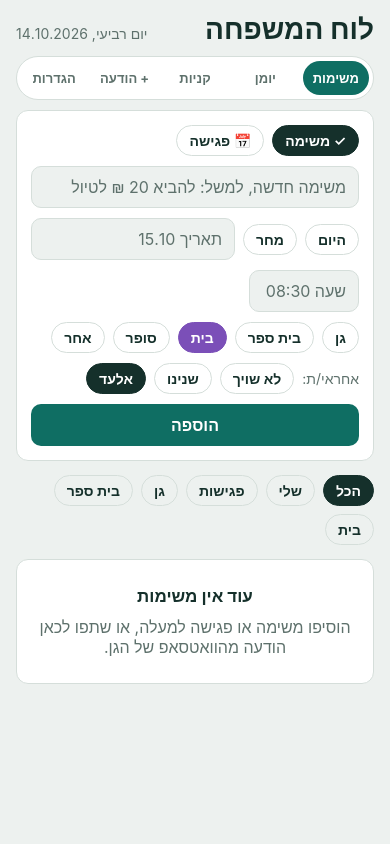
Test: tasks tab: adding › add a task for tomorrow, kindergarten, assigned to both
Expected: the text "+ הודעה" is shown, [100,70,149,86]
Type "להביא 20 ₪ לטיול" into the field with placeholder "משימה חדשה, למשל: להביא 20 ₪ לטיול" at (195, 187), box [31,166,359,208]
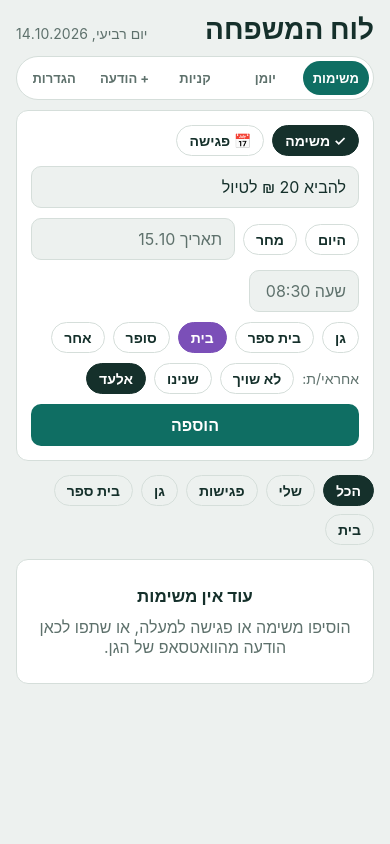
Click the text "מחר" at (270, 239), box [256,230,284,248]
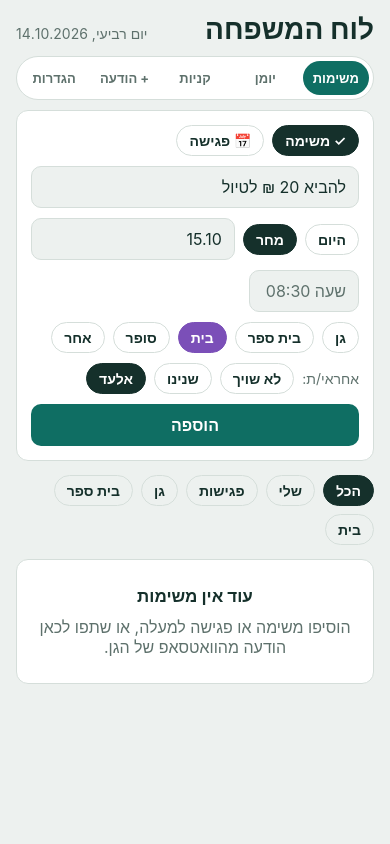
Click the text "גן" in the row of "סופר" at (341, 338), box [335,329,346,346]
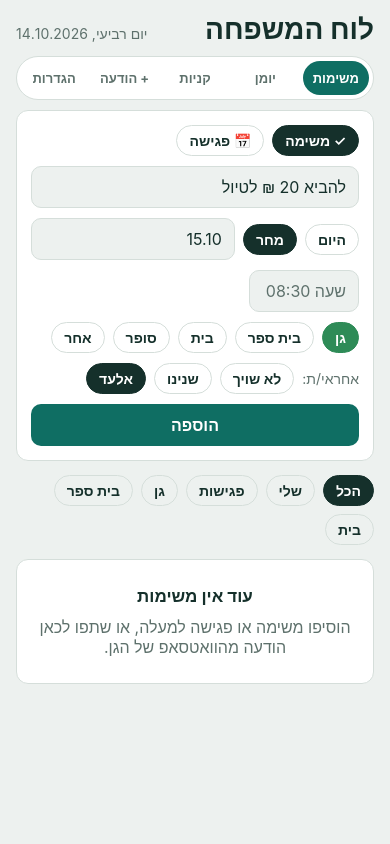
Click the text "שנינו" at (183, 378), box [167,370,199,387]
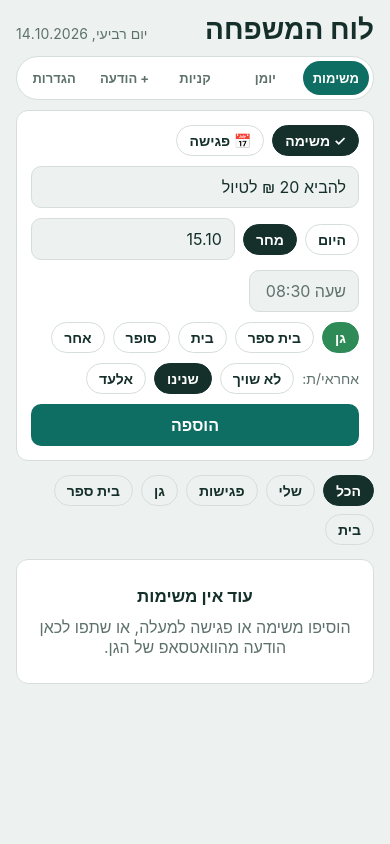
Click the button "הוספה" at (195, 425), box [31,404,359,446]
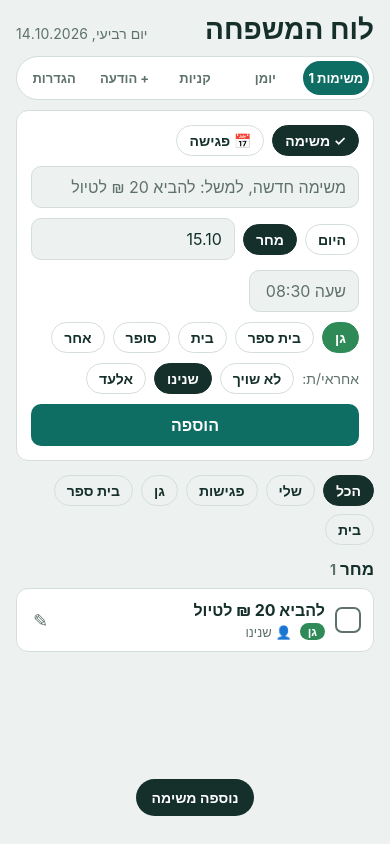
Expected: the text "מחר 1" is shown, [330,559,374,579]
Expected: the text "להביא 20 ₪ לטיול" is shown, [193,600,325,620]
Expected: the field with placeholder "משימה חדשה, למשל: להביא 20 ₪ לטיול" is empty, [31,166,359,208]
